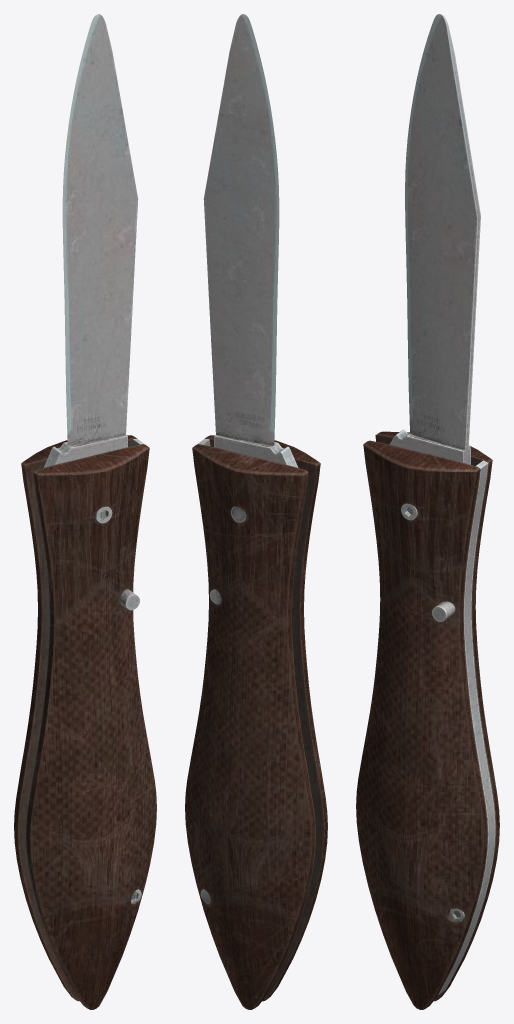
File: natural-knife-clear.glb
The picture shows the model from 3 angles, left to right: view 1: azimuth 30°, elevation 25°; view 2: azimuth 150°, elevation 25°; view 3: azimuth 330°, elevation 25°; orthographic projection.
Visible parts, largest first — view 1: natural-knife-clear runtime mesh; view 2: natural-knife-clear runtime mesh; view 3: natural-knife-clear runtime mesh.
Part boxes in pixels (x1,y1,x2,y2): natural-knife-clear runtime mesh: (14,14,156,1009); natural-knife-clear runtime mesh: (185,14,327,1009); natural-knife-clear runtime mesh: (356,14,499,1009).
Bounding box in the file's own units: 0.0431 × 0.32 × 0.0241.
Materials: 1 (1 with a texture image).
